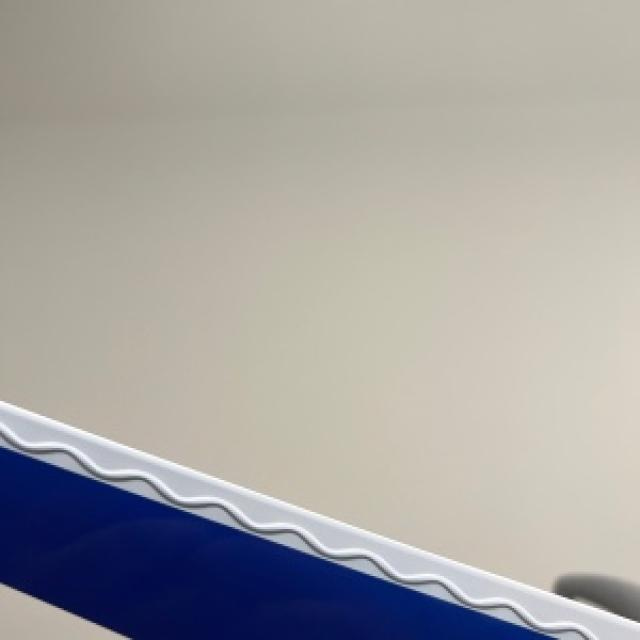healthy: (0, 401, 638, 638)
